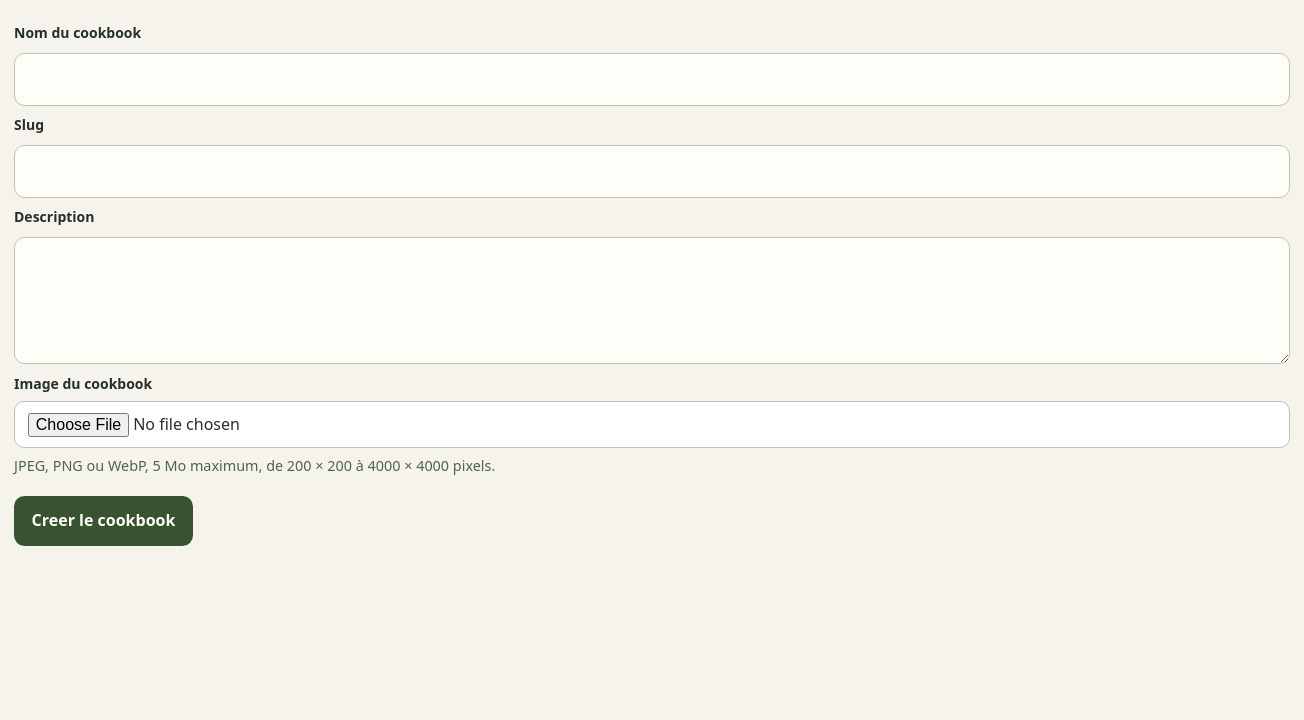
Test: CookbookCreateForm › displays API validation errors without redirecting
The image size is (1304, 720).
Type "Cuisine" into the field with id "cookbook-name-input" at point(652, 80), box [14,53,1290,106]
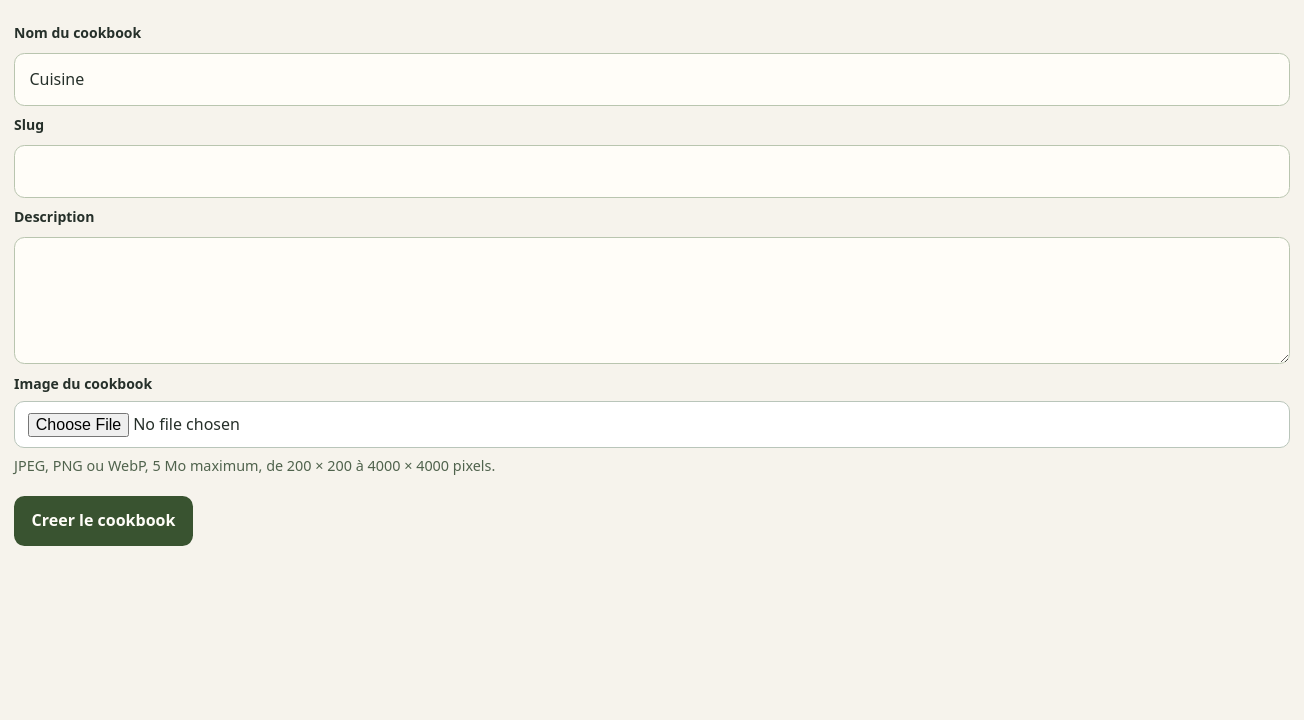
Submit the form
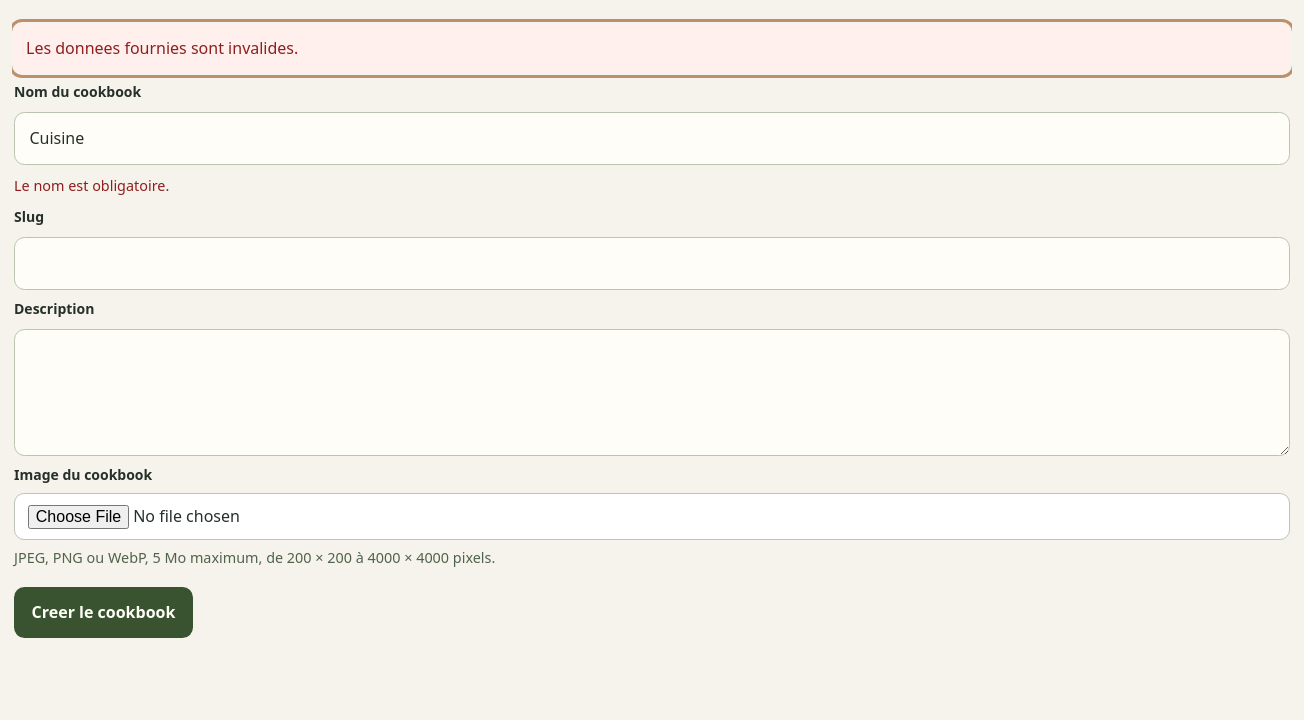
Expected: the message "Les donnees fournies sont invalides." is shown, [14,24,1290,73]
Expected: the message with id "cookbook-name-error" shows "obligatoire", [14,176,169,195]
